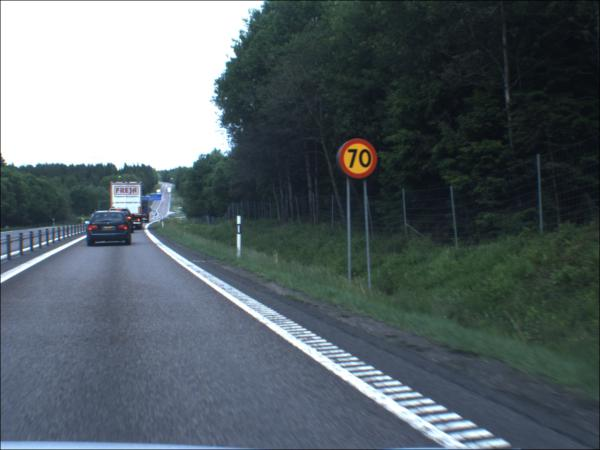70_SIGN: (339, 138, 380, 179)
